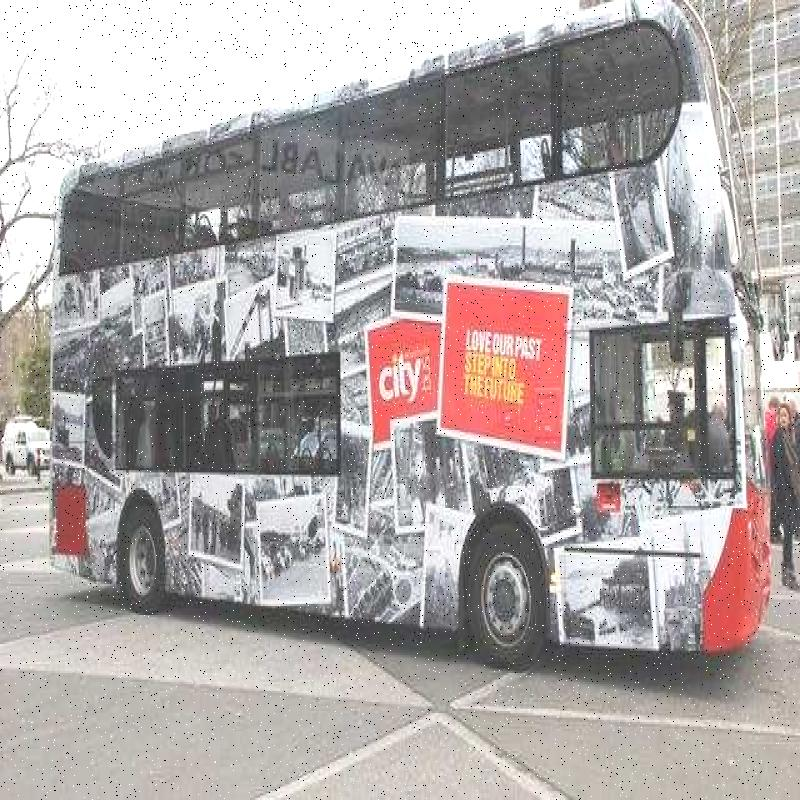bus: (60, 29, 800, 736)
